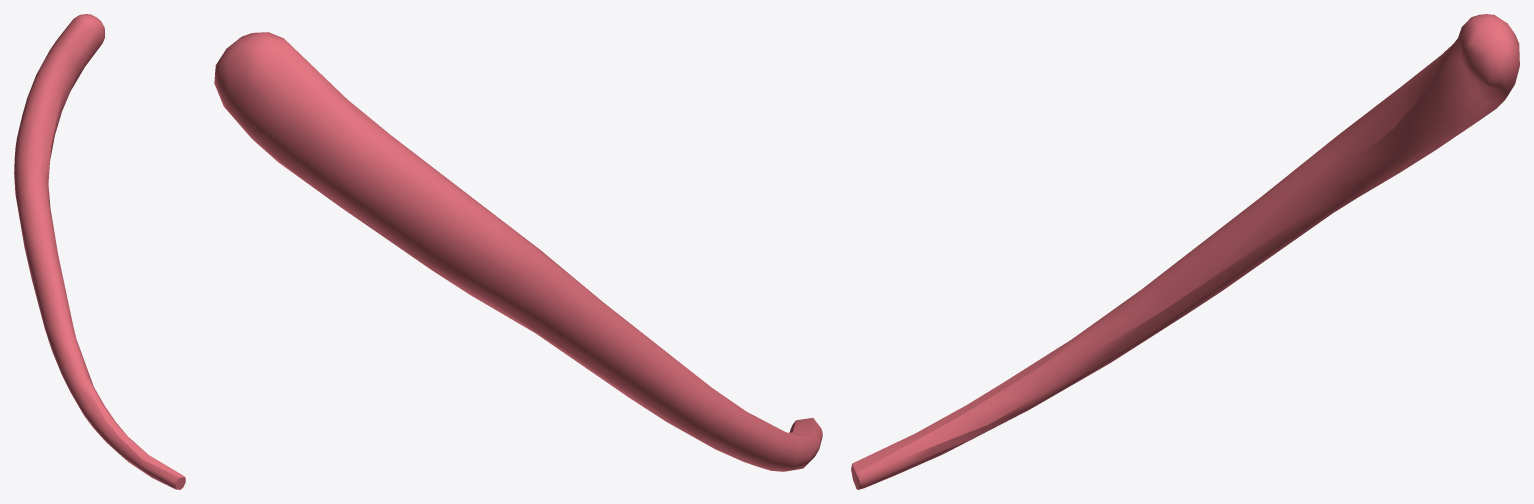
Rendered from fma8665_fj6101.glb.
3 renders of one model, left to right at view 1: azimuth 30°, elevation 25°; view 2: azimuth 150°, elevation 25°; view 3: azimuth 270°, elevation 25°, orthographic. The views are drawn at different scales.
Visible parts, largest first — view 1: FMA8665_FJ6101; view 2: FMA8665_FJ6101; view 3: FMA8665_FJ6101.
Part boxes in pixels (x1=…): FMA8665_FJ6101: x1=14, y1=14, x2=185, y2=489; FMA8665_FJ6101: x1=214, y1=32, x2=822, y2=471; FMA8665_FJ6101: x1=851, y1=14, x2=1519, y2=489.
Bounding box in the file's own units: 0.0269 × 0.0538 × 0.0597.
